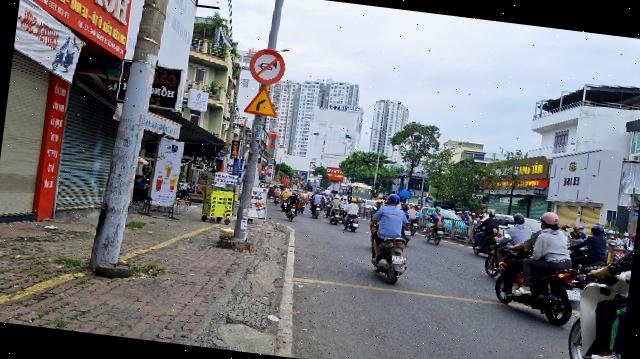cam-bop-coi: (247, 46, 287, 86)
cho-ngoat-nguy-hiem-ben-trai: (243, 83, 281, 118)
